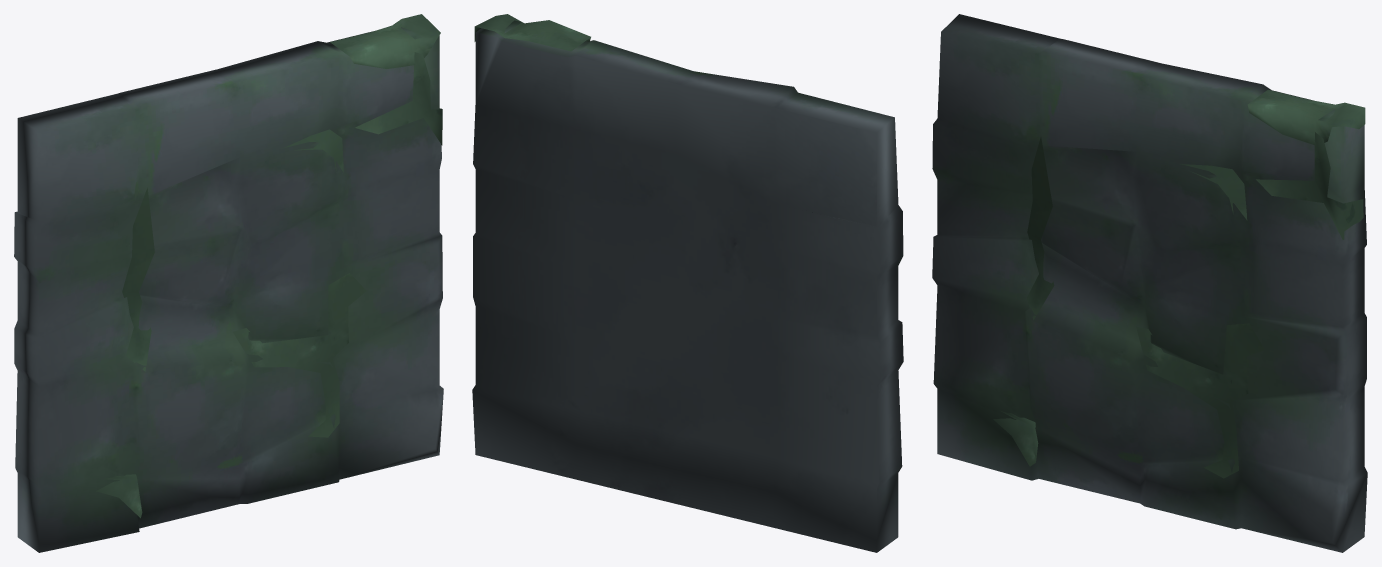
The model's file is pared1.obj.
3 renders of one model, left to right at view 1: azimuth 30°, elevation 25°; view 2: azimuth 150°, elevation 25°; view 3: azimuth 330°, elevation 25°, orthographic.
Parts seen in each view (by area): view 1: musgo_6; view 2: musgo_6; view 3: musgo_6.
Boxes of the visible parts, box(x1,y1,x2,y2) form: musgo_6: box(14, 14, 443, 552); musgo_6: box(472, 14, 903, 552); musgo_6: box(932, 14, 1367, 552).
Bounding box in the file's own units: 4.07 × 4.06 × 0.4824.
Materials: 1 (1 with a texture image).
